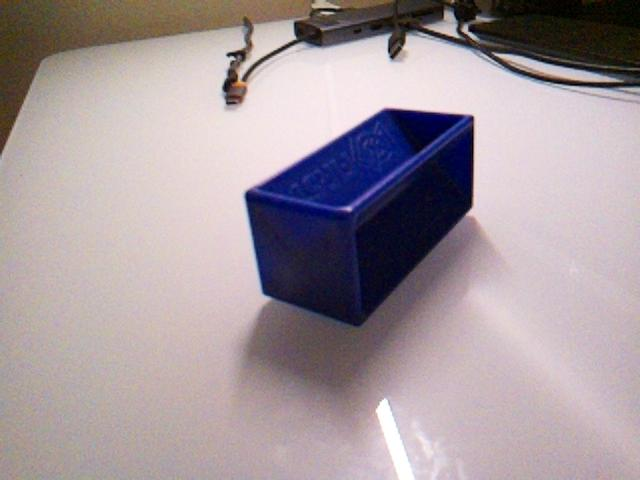blue: (243, 105, 477, 328)
